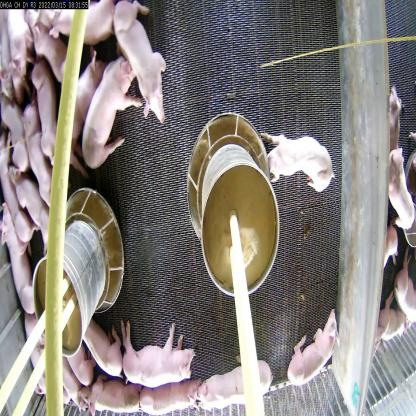Pig: (112, 0, 174, 114), (75, 50, 133, 158), (261, 114, 335, 196), (120, 326, 199, 391), (18, 94, 59, 198), (282, 313, 336, 390), (10, 157, 64, 232), (0, 219, 42, 314), (25, 70, 64, 162), (66, 54, 98, 156), (80, 304, 126, 373), (129, 381, 212, 415), (84, 375, 148, 415), (0, 151, 28, 237), (194, 365, 236, 407)
